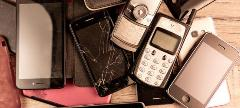electronic: (166, 18, 240, 108), (65, 13, 139, 96), (126, 8, 190, 103), (15, 0, 68, 96)
